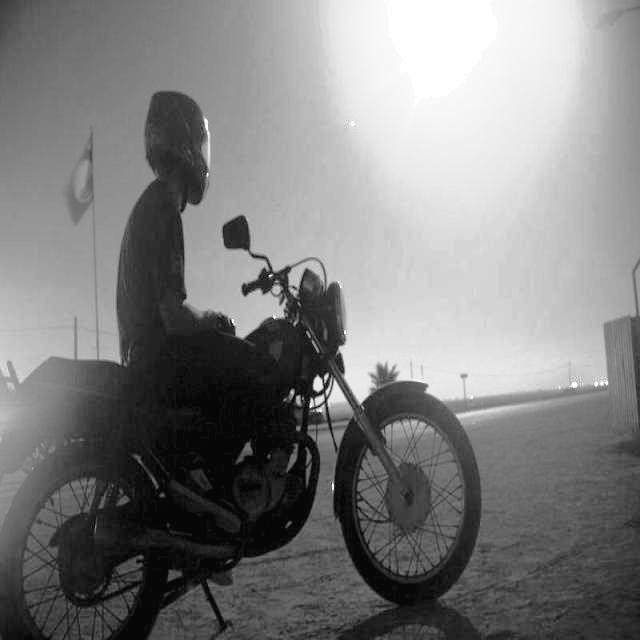Motorcycle: (0, 263, 489, 640)
